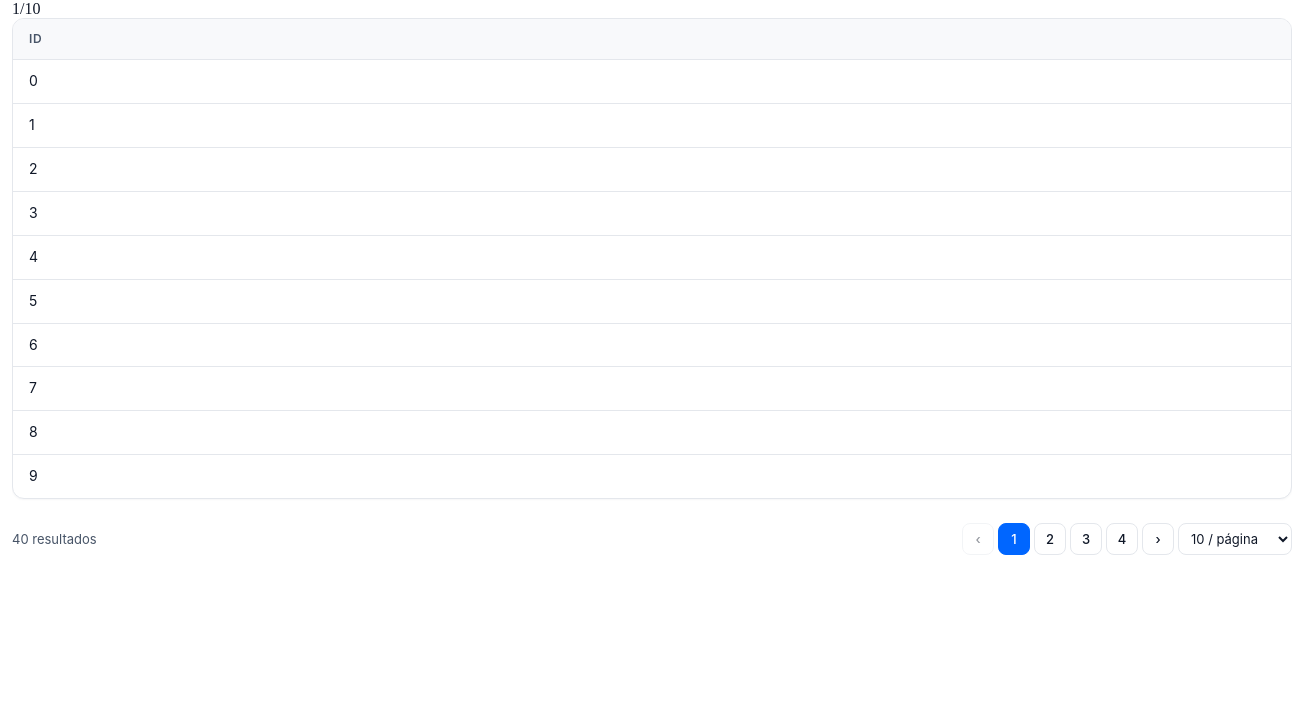
Test: DataTable — items-per-page selector › keeps the selector on screen when everything fits on one page
The image size is (1304, 720).
Select "100 / página" in the dropdown named "Itens por página" at (1235, 539), box [1178,523,1292,555]
(page scrolled)
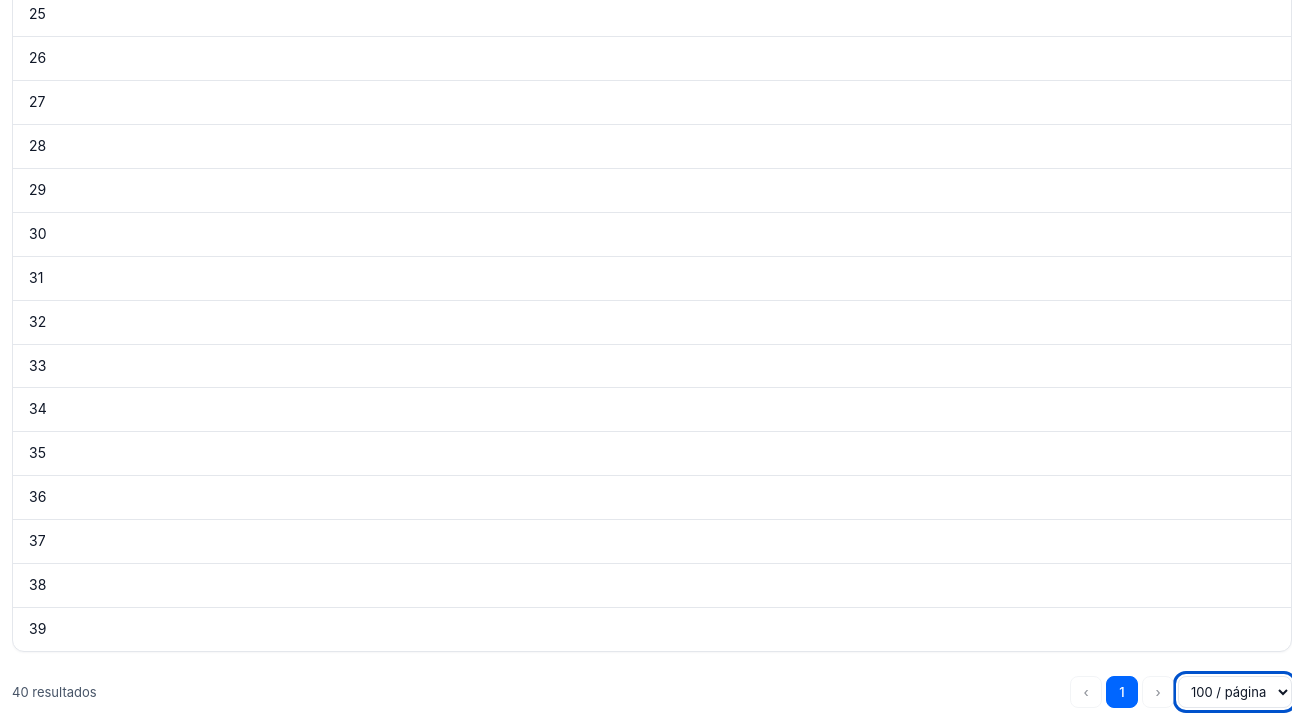
Select "10 / página" in the dropdown named "Itens por página" at (1235, 692), box [1178,676,1292,708]
(page scrolled)
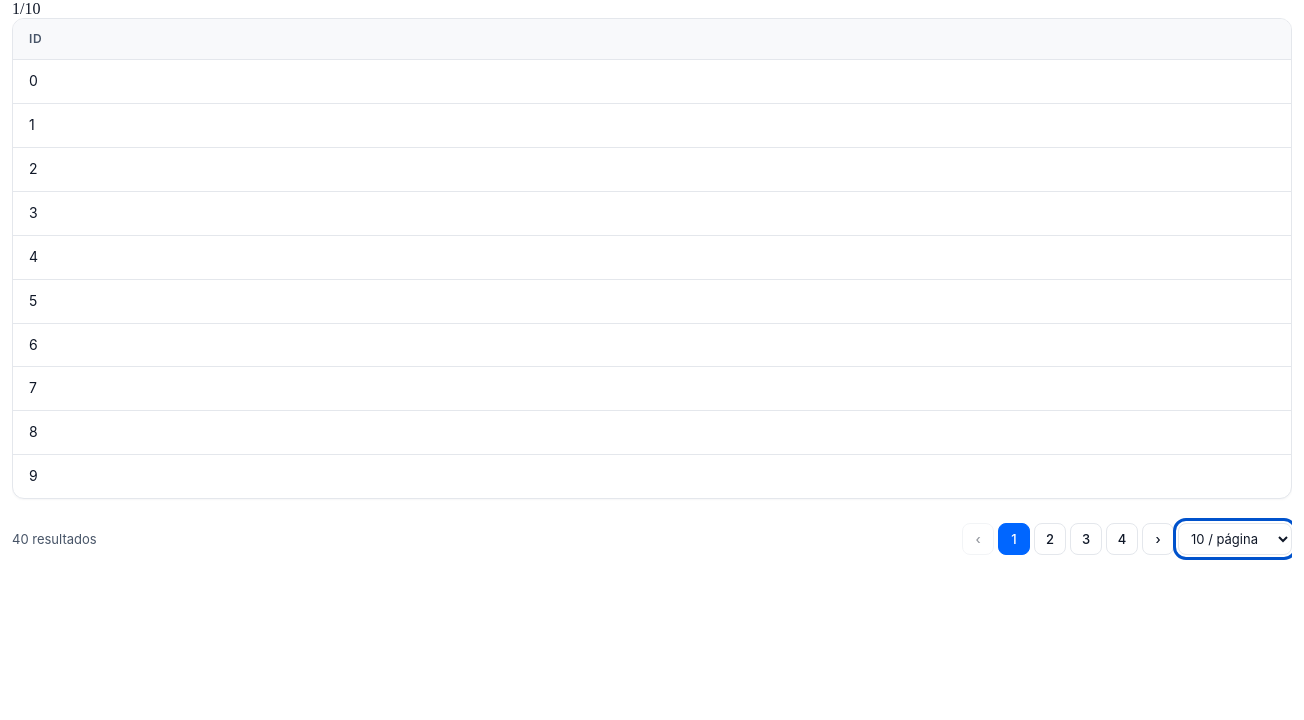
Expected: the text with test id "state" reads "1/10", [12,0,40,17]
